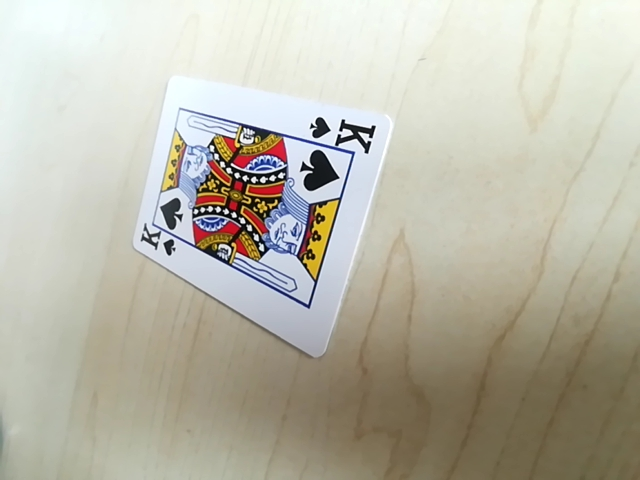ht k: (305, 114, 379, 150), (136, 216, 179, 257)
